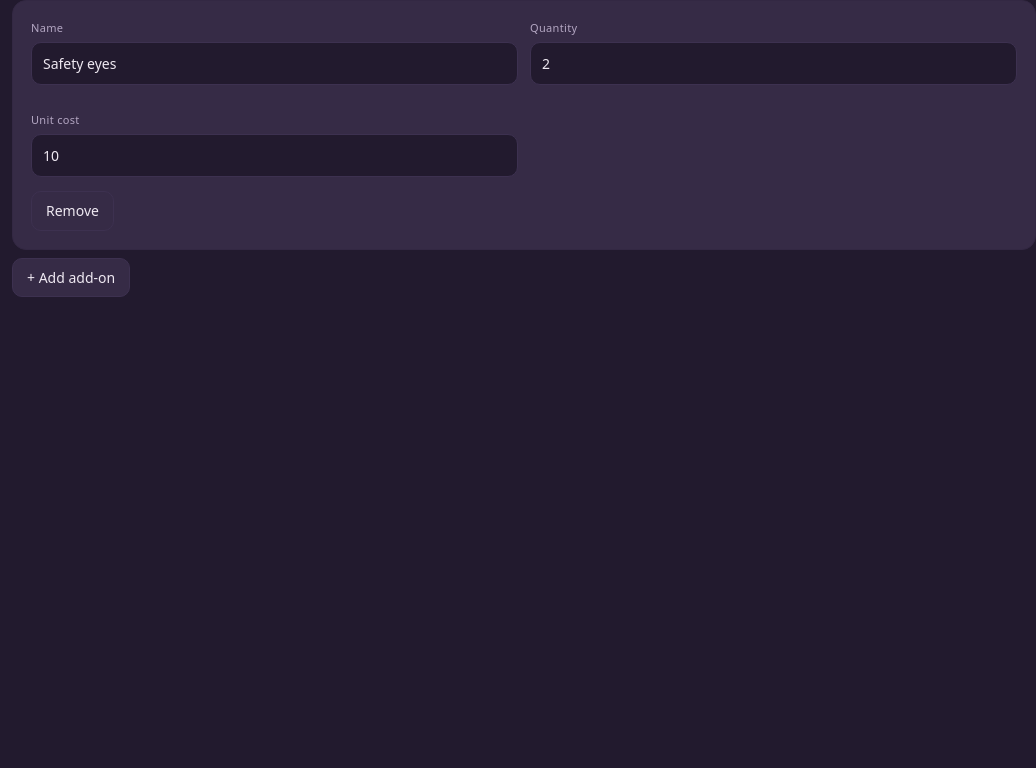
Test case: AddOnsFields › + Add add-on appends a blank row without touching existing ones
Click the button "+ Add add-on" at x=71, y=277, box [12,258,130,297]
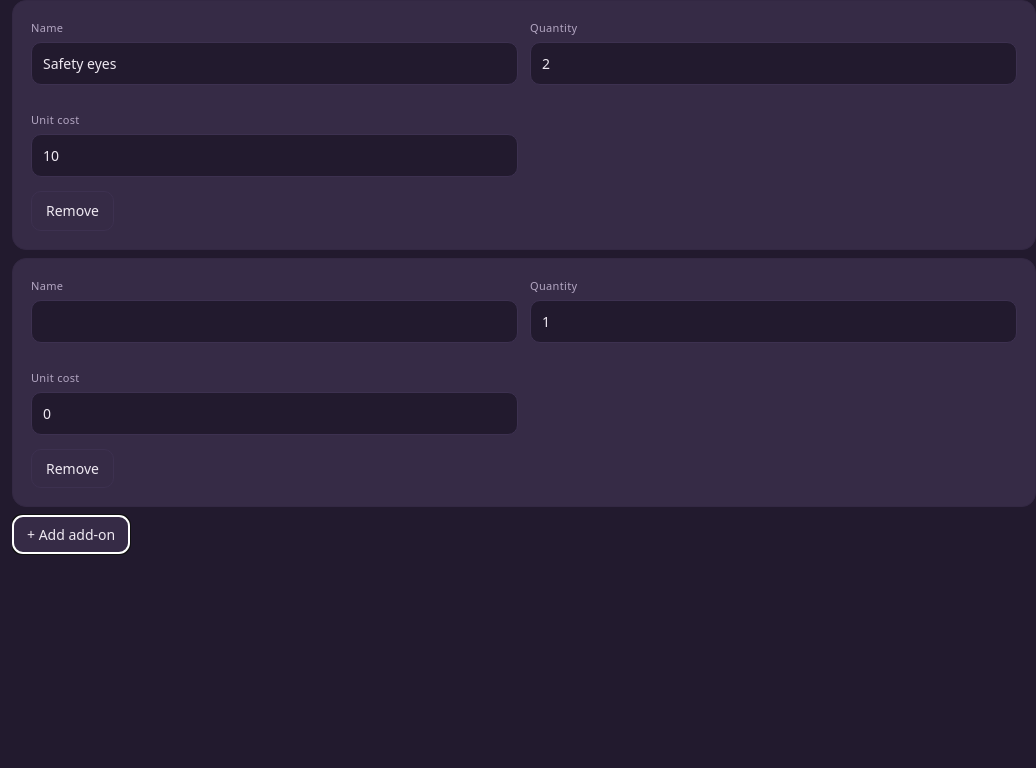
Expected: the 1st field showing "Safety eyes" is shown, [31,42,518,85]
Result: the number of fields labelled "Name" is 2 at [31,42,518,85]; [31,300,518,343]
